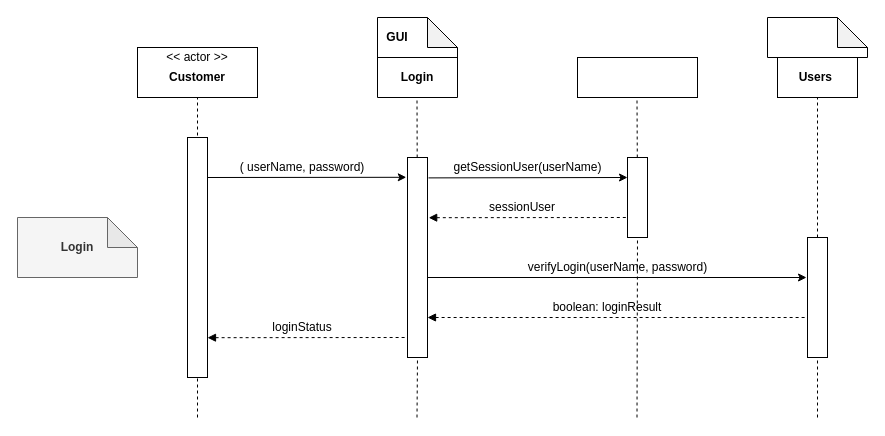
The diagram is 885 pixels wide and 436 high, and some of its shapes have lost their labels. Here are the shapes that lost their labels. From the top down, the centre of each, then its label:
At (817,37): "aUser".
At (637,77): "SessionManager".
